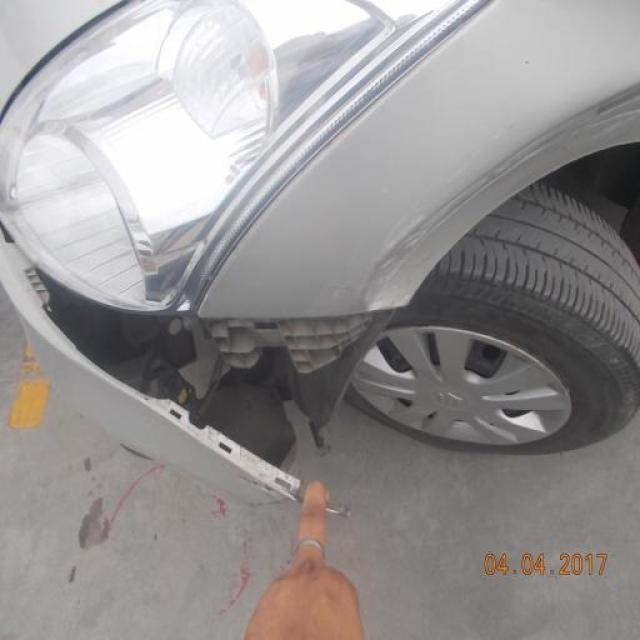scratch: (364, 78, 639, 306)
tear: (24, 267, 411, 515)
